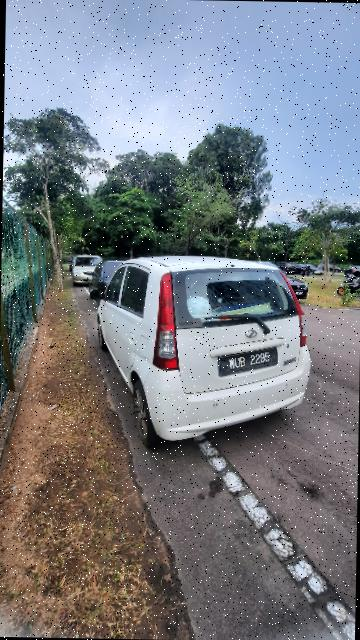License_Plate: (213, 345, 290, 381)
car: (87, 256, 319, 452)
